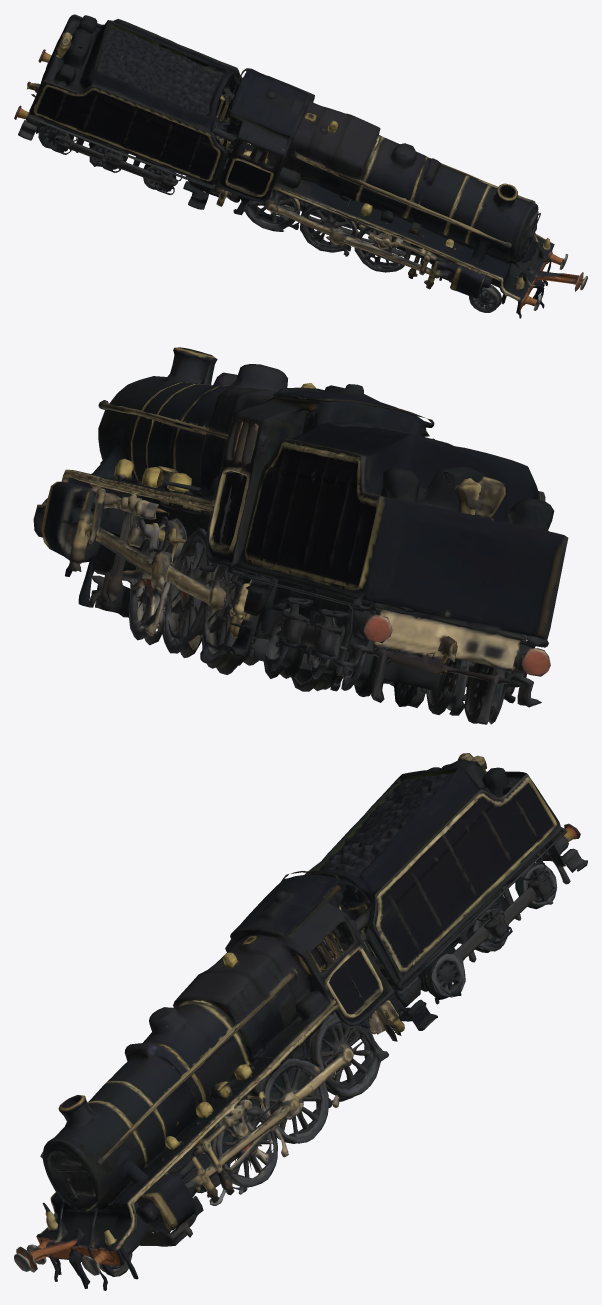
Rendered from black_five.glb.
The picture shows the model from 3 angles, top to bottom: view 1: azimuth 30°, elevation 25°; view 2: azimuth 150°, elevation 25°; view 3: azimuth 270°, elevation 25°; orthographic projection. The views are drawn at different scales.
Bounding box in the file's own units: 0.9147 × 0.5591 × 0.8413.
Materials: 1 (1 with a texture image).
